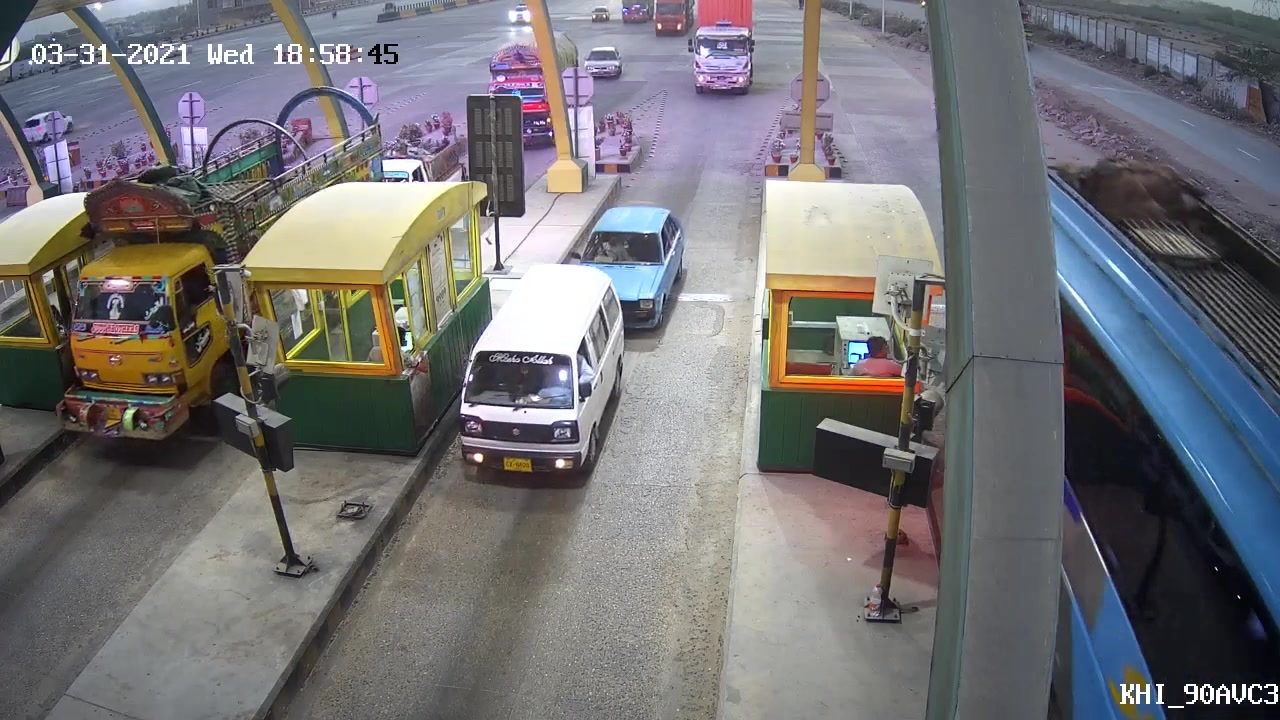F2: (441, 258, 623, 478)
